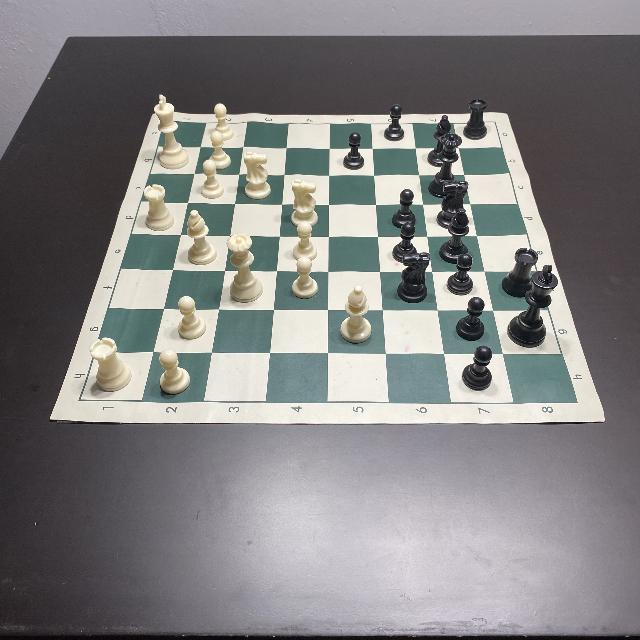black-bishop: (441, 209, 472, 261), (428, 114, 457, 168)
black-king: (508, 262, 558, 346)
black-knight: (396, 254, 430, 302), (436, 181, 468, 229)
black-pawn: (461, 346, 493, 392), (456, 297, 486, 341), (446, 253, 474, 295), (392, 224, 418, 262), (392, 188, 416, 228), (384, 105, 404, 142), (344, 134, 364, 170)
black-queen: (430, 134, 462, 198)
black-rook: (501, 248, 537, 296), (464, 99, 486, 140)
board: (47, 112, 606, 424)
white-bishop: (186, 209, 218, 265), (340, 286, 370, 342)
white-king: (154, 94, 188, 170)
white-knight: (244, 152, 272, 198), (290, 179, 318, 225)
white-pawn: (157, 350, 190, 394), (178, 296, 206, 338), (290, 256, 318, 296), (206, 132, 232, 170), (292, 220, 316, 260), (200, 160, 222, 198), (213, 104, 234, 140)
white-queen: (226, 234, 262, 302)
white-rook: (88, 337, 132, 393), (142, 185, 174, 231)
